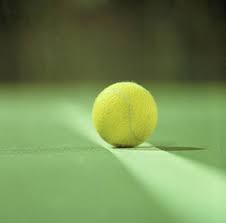tennis_ball: (91, 79, 159, 150)
